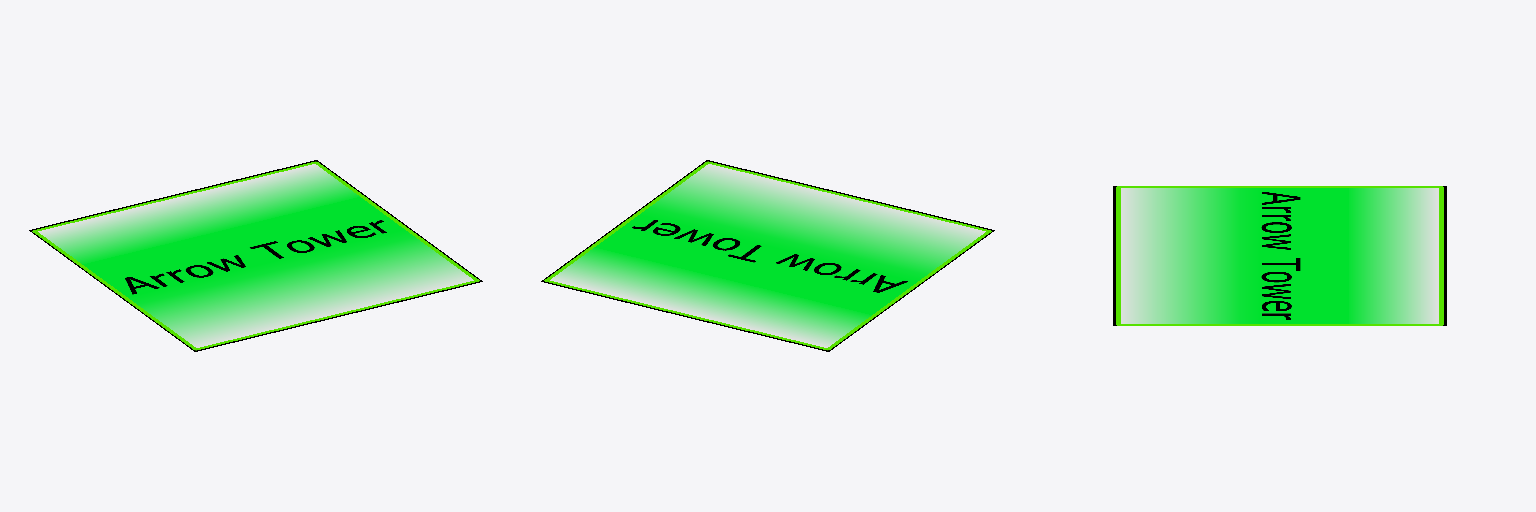
The picture shows the model from 3 angles: view 1: azimuth 30°, elevation 25°; view 2: azimuth 150°, elevation 25°; view 3: azimuth 270°, elevation 25°; orthographic projection.
Parts seen in each view (by area): view 1: Plane; view 2: Plane; view 3: Plane.
Boxes of the visible parts, box(x1,y1,x2,y2) form: Plane: box(29, 160, 482, 351); Plane: box(541, 160, 994, 351); Plane: box(1113, 186, 1446, 325).
Bounding box in the file's own units: 1 × 0 × 1.
Materials: 1 (1 with a texture image).